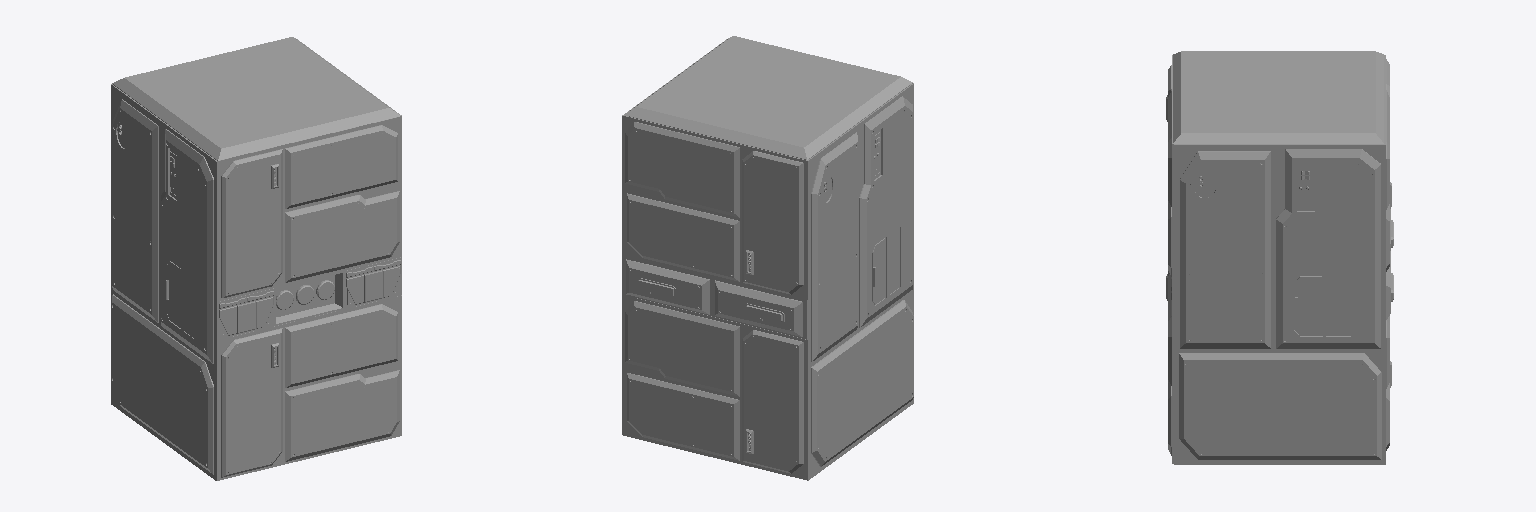
Rendered from BatteryPillar.obj.
3 renders of one model, left to right at view 1: azimuth 30°, elevation 25°; view 2: azimuth 150°, elevation 25°; view 3: azimuth 270°, elevation 25°, orthographic.
Parts seen in each view (by area): view 1: Cube; view 2: Cube; view 3: Cube.
Boxes of the visible parts, x1=… form: Cube: x1=111, y1=37, x2=401, y2=480; Cube: x1=622, y1=36, x2=913, y2=480; Cube: x1=1166, y1=51, x2=1393, y2=464.
Bounding box in the file's own units: 16.18 × 25.6 × 16.15.